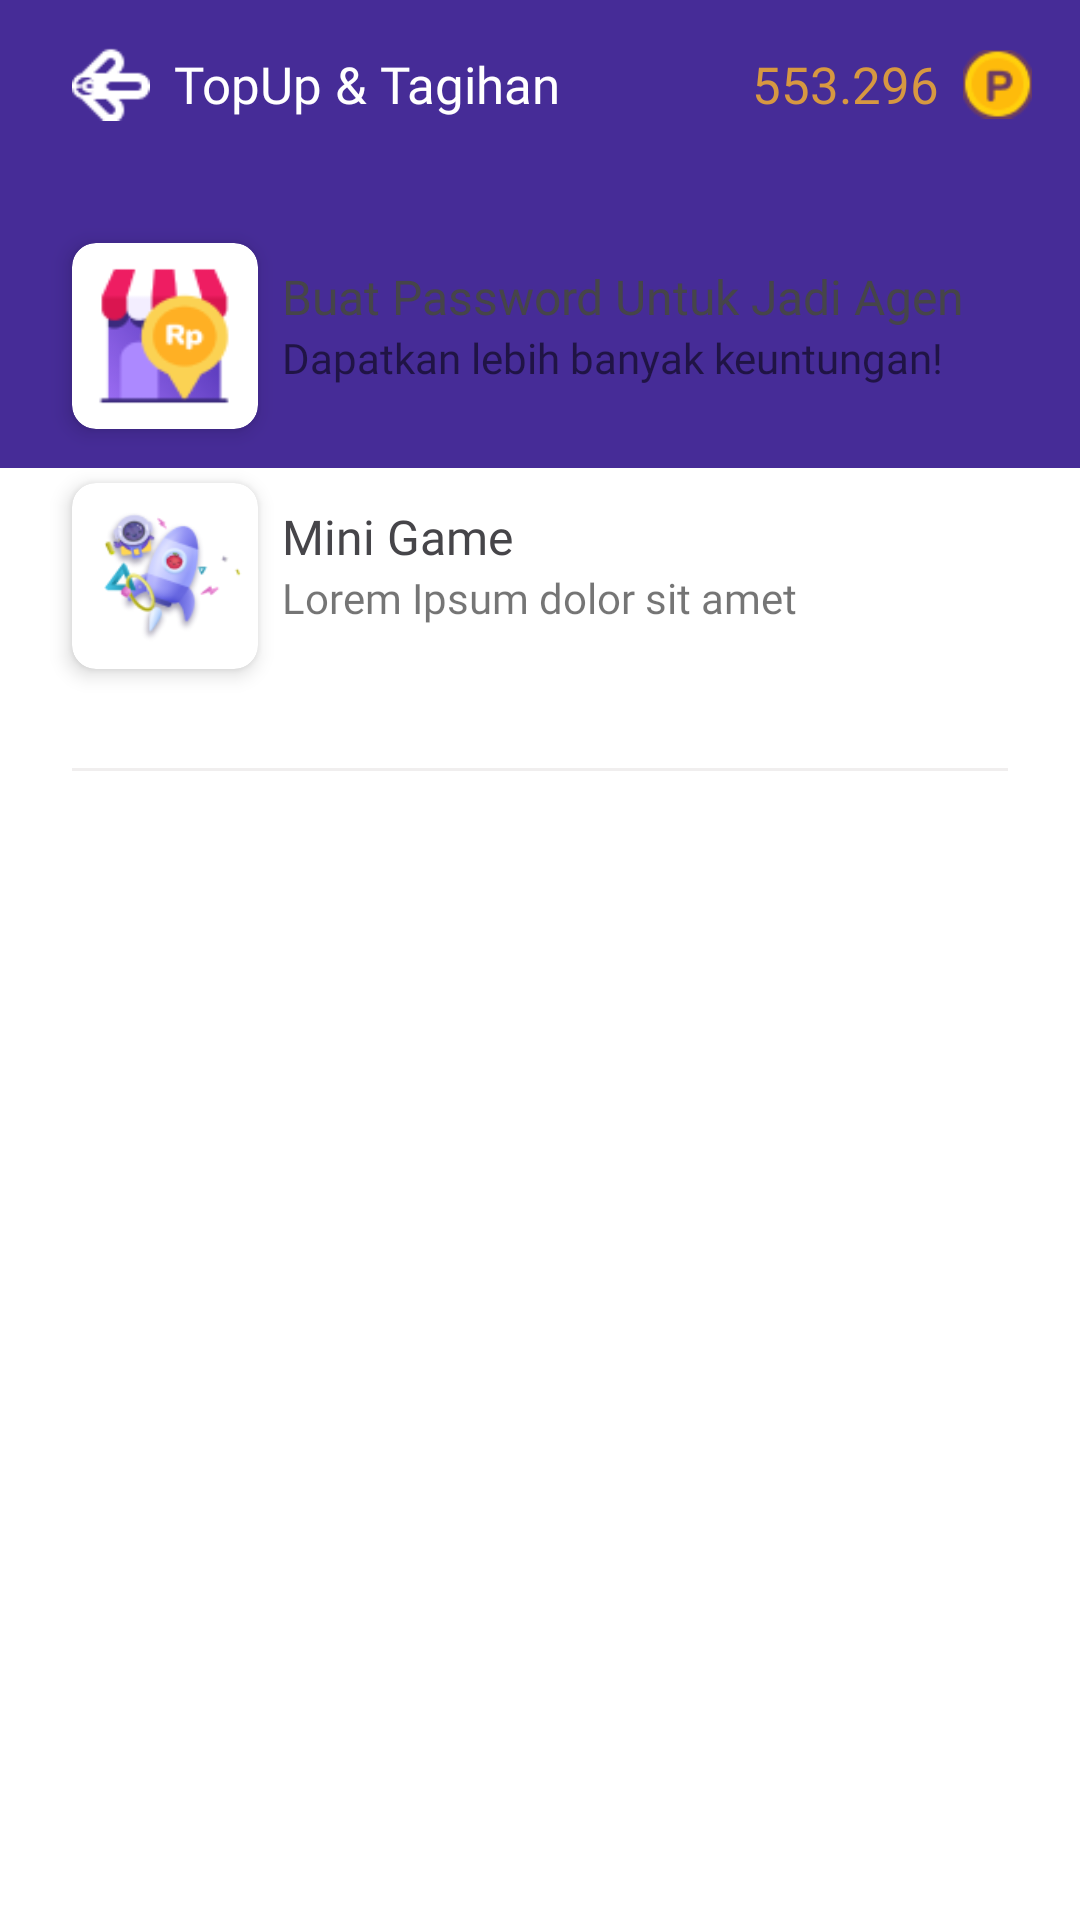

Screen size 1080 x 1920. Icon name, then its center in pixels as [x,y]:
agent: [164,336]
coin: [997,84]
